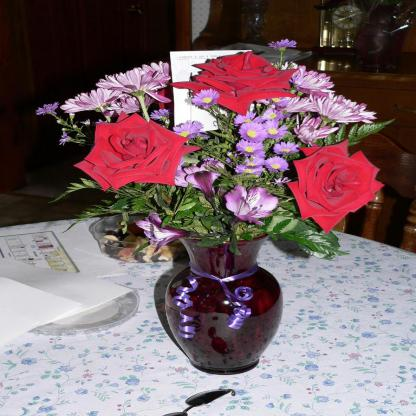vase: (163, 231, 283, 374)
